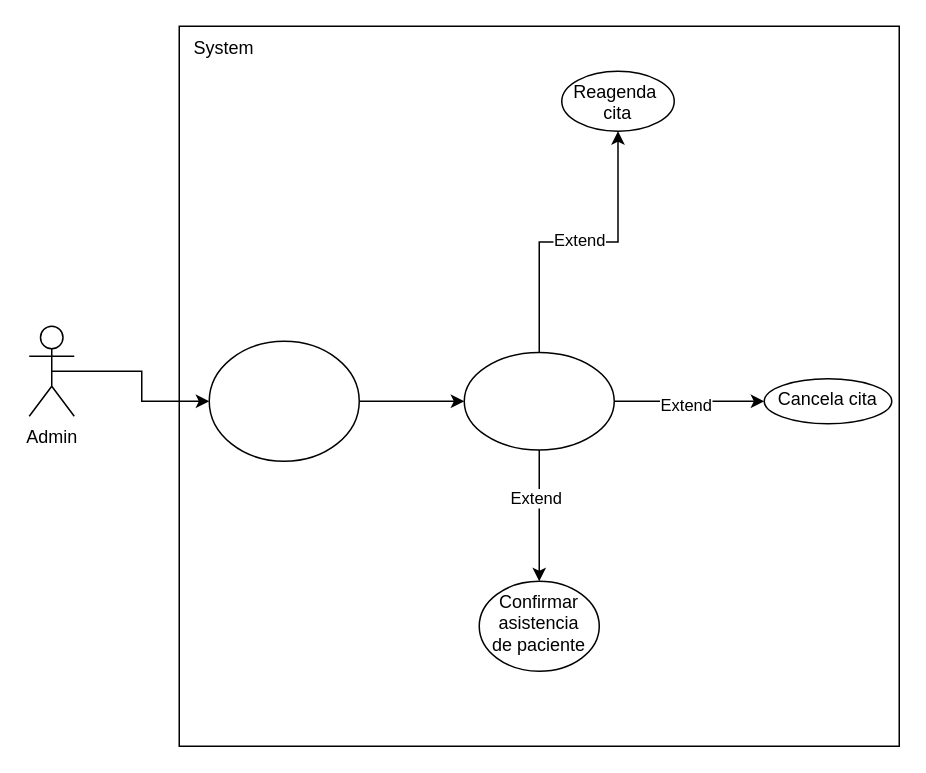
This 926x773 diagram has some shape labels left out. The shapes that lost their labels are listed below. From the top down, each one's centre as x and y in pixels, then its label:
[283,400]: Ingresa a la pagina con credenciales
[538,400]: Ingresa al apartado de gestion de citas
